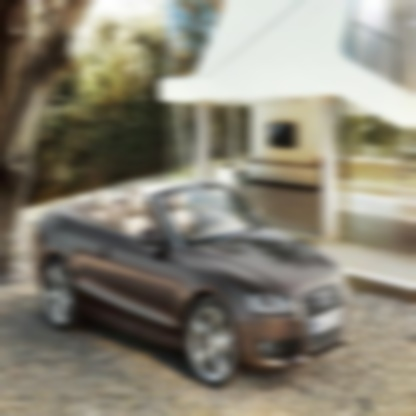Vehicle: (31, 176, 352, 390)
